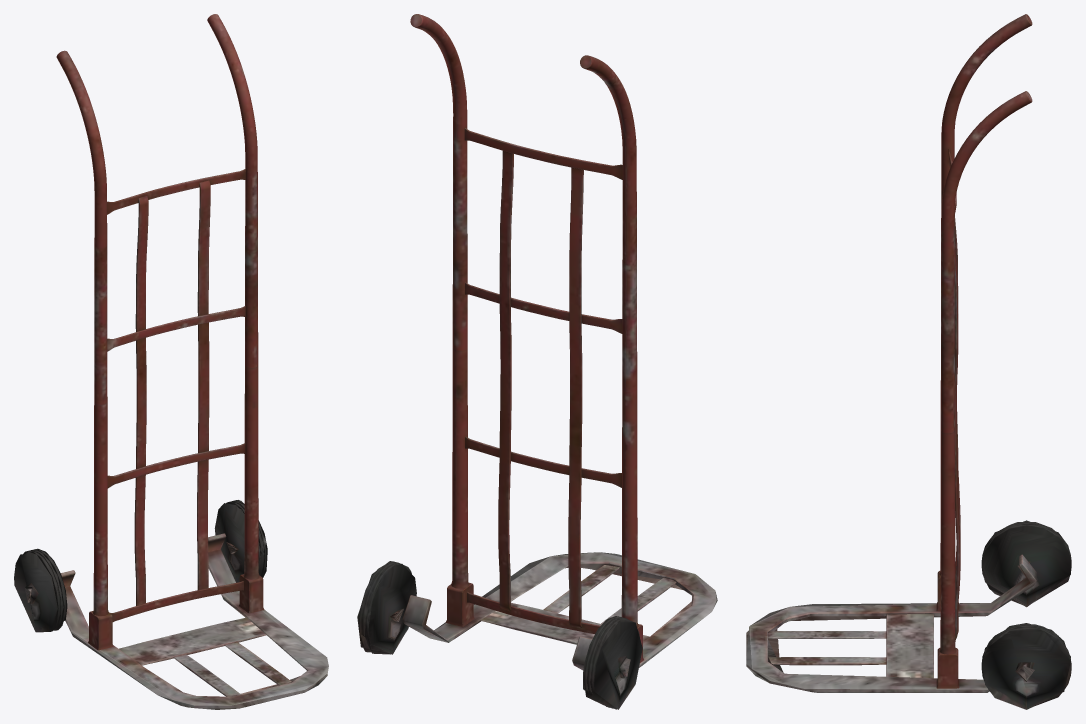
File: handtruck.glb
The picture shows the model from 3 angles, left to right: view 1: azimuth 30°, elevation 25°; view 2: azimuth 150°, elevation 25°; view 3: azimuth 270°, elevation 25°; orthographic projection. The views are drawn at different scales.
Visible parts, largest first — view 1: hand_truck; view 2: hand_truck; view 3: hand_truck.
Part boxes in pixels (x1=…): hand_truck: x1=14, y1=14, x2=328, y2=709; hand_truck: x1=357, y1=14, x2=717, y2=709; hand_truck: x1=746, y1=14, x2=1071, y2=709.
Bounding box in the file's own units: 0.5789 × 1.4 × 0.6876.
1 material, 1 textured.
